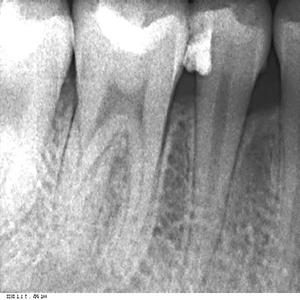tooth: (49, 0, 189, 275), (180, 5, 268, 282), (0, 3, 74, 235)
